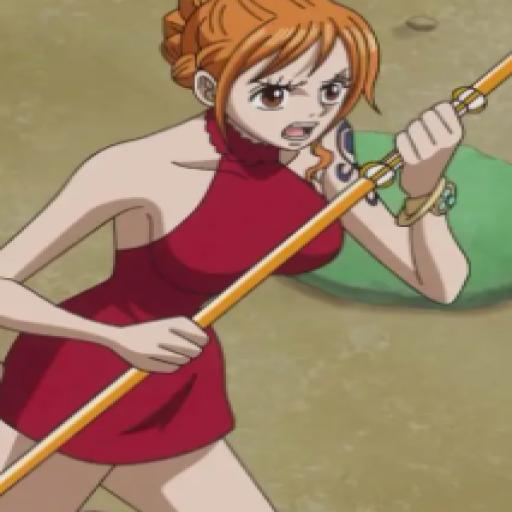Nami: (0, 0, 486, 512)
